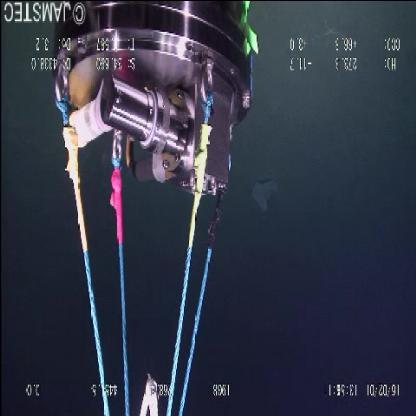Rov: (50, 1, 257, 414)
Rác: (246, 171, 282, 217)
